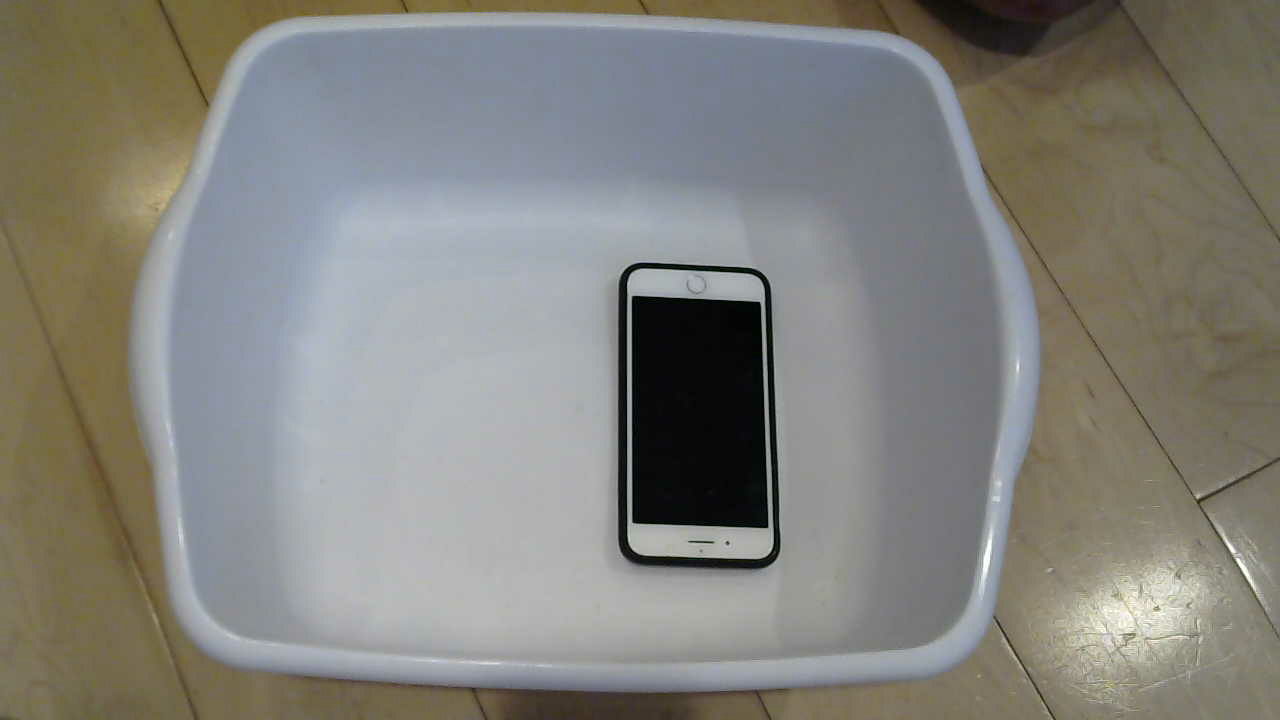phone: (583, 255, 790, 588)
